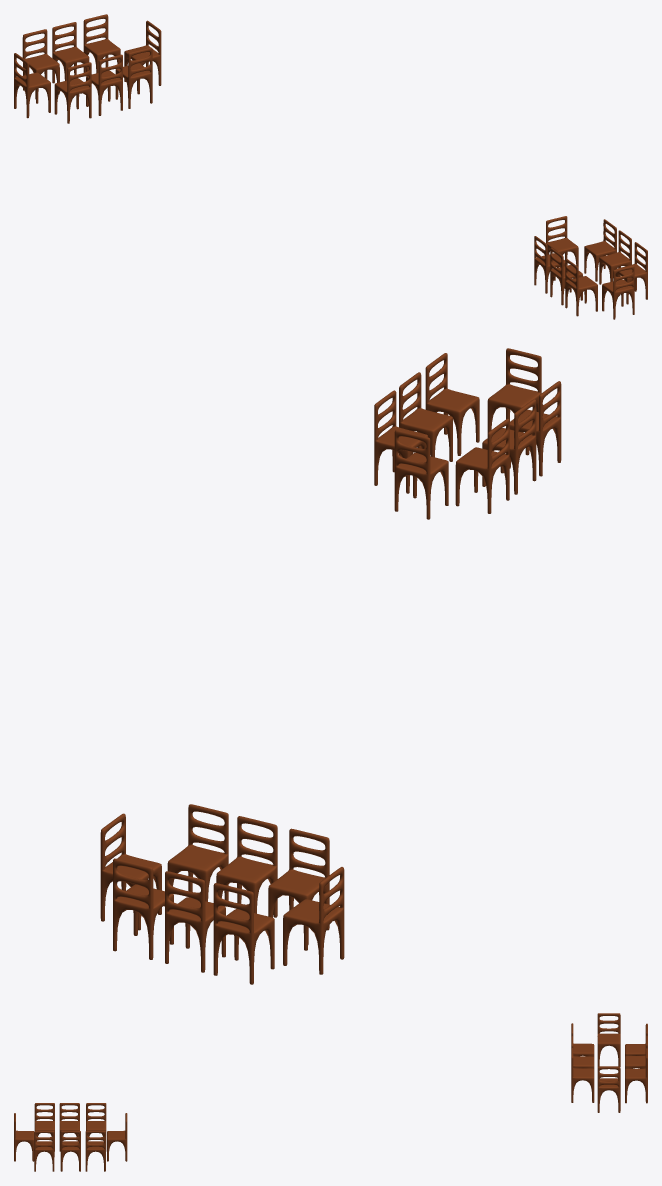
Rendered from chair2.fbx.
The picture shows the model from 3 angles, top to bottom: view 1: azimuth 30°, elevation 25°; view 2: azimuth 150°, elevation 25°; view 3: azimuth 270°, elevation 25°; orthographic projection. The views are drawn at different scales.
Visible parts, largest first — view 1: chair2.009, chair2.013, chair2.014, chair2.008, chair2.011, chair2.010, chair2.015, chair2.004, chair2.003, chair2.012, chair2.007, chair2 (+4 smaller); view 2: chair2.015, chair2.008, chair2.010, chair2.011, chair2.014, chair2.013, chair2.009, chair2, chair2.001, chair2.012, chair2.005, chair2.004 (+4 smaller); view 3: chair2.008, chair2.012, chair2.011, chair2.005, chair2.007, chair2.006, chair2.002, chair2.013, chair2.001, chair2.003, chair2, chair2.004 (+4 smaller).
Boxes of the visible parts, x1,y1,x2,y2 form: chair2.009: (54,62,91,123); chair2.013: (83,14,120,73); chair2.014: (52,22,89,83); chair2.008: (14,53,50,118); chair2.011: (115,47,152,108); chair2.010: (86,54,122,115); chair2.015: (22,29,59,99); chair2.004: (602,265,634,319); chair2.003: (565,258,597,316); chair2.012: (124,20,161,90); chair2.007: (584,219,616,281); chair2: (546,216,578,267); chair2.015: (213,883,274,984); chair2.008: (283,867,344,974); chair2.010: (216,816,277,917); chair2.011: (167,804,228,901); chair2.014: (165,871,225,972); chair2.013: (113,858,173,959); chair2.009: (268,828,329,944); chair2: (394,430,448,519); chair2.001: (455,418,509,513); chair2.012: (100,813,161,930); chair2.005: (425,353,479,455); chair2.004: (487,348,541,433); chair2.008: (597,1013,620,1066); chair2.012: (597,1066,620,1112); chair2.011: (571,1048,594,1102); chair2.005: (34,1130,54,1171); chair2.007: (85,1130,105,1171); chair2.006: (60,1130,80,1171); chair2.002: (59,1103,79,1151); chair2.013: (625,1048,647,1103); chair2.001: (86,1103,106,1151); chair2.003: (34,1103,54,1151); chair2: (107,1113,127,1161); chair2.004: (14,1113,34,1161).
Bounding box in the file's own units: 2147 × 408 × 5089.
